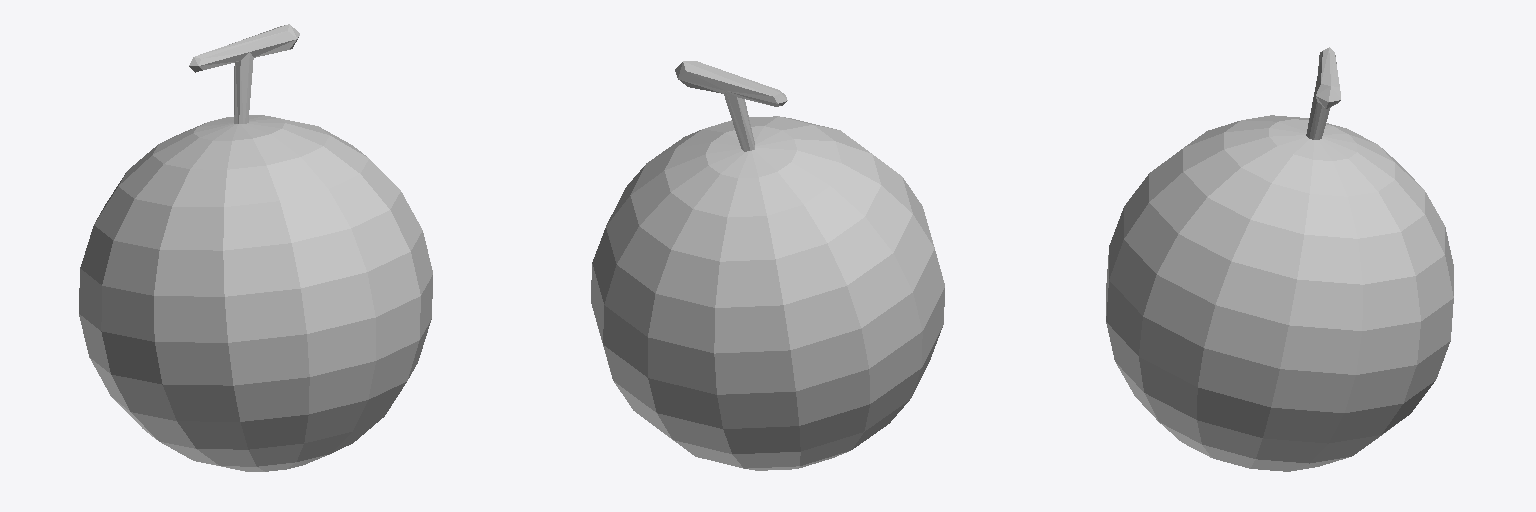
Rendered from Melon.obj.
3 renders of one model, left to right at view 1: azimuth 30°, elevation 25°; view 2: azimuth 150°, elevation 25°; view 3: azimuth 270°, elevation 25°, orthographic.
Parts seen in each view (by area): view 1: Inst3D25_RefRep.202; view 2: Inst3D25_RefRep.202; view 3: Inst3D25_RefRep.202.
Part boxes in pixels (x1,y1,x2,y2): Inst3D25_RefRep.202: (79, 24, 432, 471); Inst3D25_RefRep.202: (591, 61, 944, 470); Inst3D25_RefRep.202: (1106, 47, 1453, 471).
Bounding box in the file's own units: 2.09 × 2.57 × 2.04.